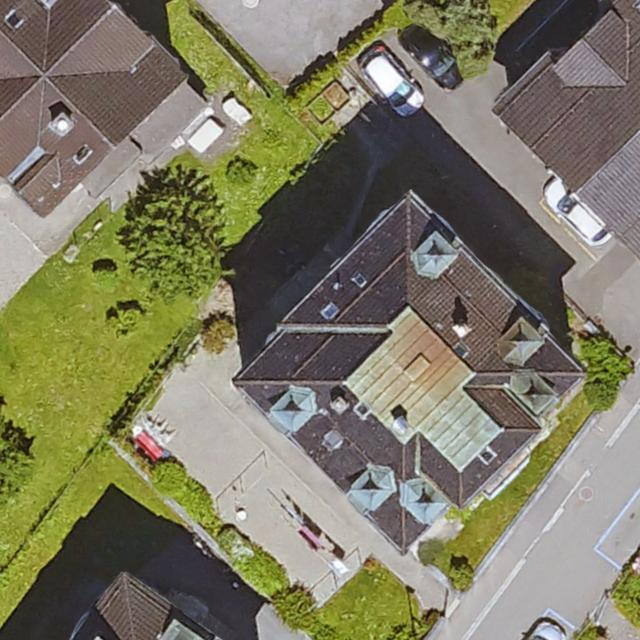tree: (121, 179, 227, 295)
